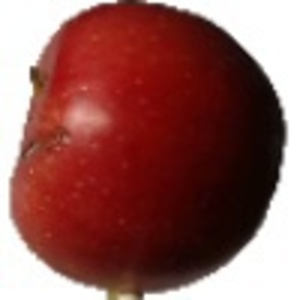maçã braeburn: (11, 1, 284, 293)
